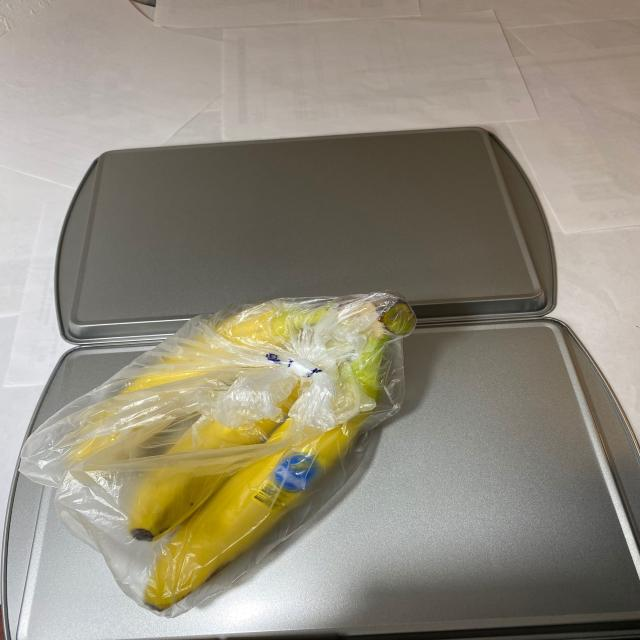banana: (41, 289, 431, 614)
